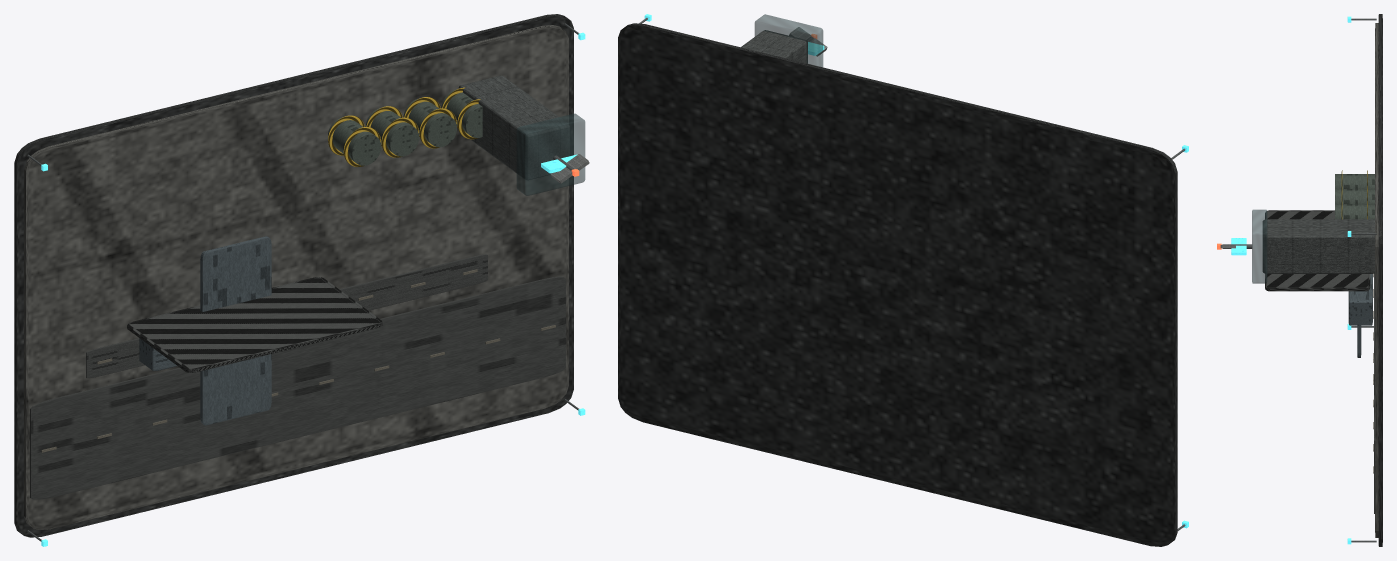
File: b-21-advanced-airfield-lod0.glb
3 views of the same model, side by side, from view 1: azimuth 30°, elevation 25°; view 2: azimuth 150°, elevation 25°; view 3: azimuth 270°, elevation 25° (orthographic). The views are drawn at different scales.
Visible parts, largest first — view 1: foundation_inner_pad, advanced_runway_road, foundation, strategic_hangar_door, heavy_aircraft_wing, tower_main, advanced_taxiway_road, tower_glass, advanced_fuel_0_vessel, advanced_fuel_1_vessel, advanced_fuel_2_vessel, advanced_fuel_3_vessel; view 2: foundation, tower_glass, tower_main; view 3: tower_main, foundation, strategic_hangar_door, foundation_inner_pad, tower_glass, heavy_aircraft_fuselage, advanced_fuel_2_vessel, advanced_fuel_0_vessel, advanced_fuel_1_vessel, advanced_radar_array_0.
Boxes of the visible parts, box(x1,y1,x2,y2) form: foundation_inner_pad: box(24, 25, 568, 529); advanced_runway_road: box(30, 276, 565, 499); foundation: box(14, 14, 573, 537); strategic_hangar_door: box(127, 277, 382, 372); heavy_aircraft_wing: box(200, 236, 271, 425); tower_main: box(458, 75, 569, 179); advanced_taxiway_road: box(86, 254, 487, 378); tower_glass: box(516, 113, 585, 195); advanced_fuel_0_vessel: box(328, 117, 381, 165); advanced_fuel_1_vessel: box(365, 107, 419, 156); advanced_fuel_2_vessel: box(403, 98, 456, 147); advanced_fuel_3_vessel: box(441, 89, 482, 137); foundation: box(618, 23, 1177, 546); tower_glass: box(754, 14, 823, 67); tower_main: box(741, 30, 807, 63); tower_main: box(1263, 219, 1374, 273); foundation: box(1378, 14, 1382, 546); strategic_hangar_door: box(1265, 210, 1370, 291); foundation_inner_pad: box(1375, 23, 1378, 537); tower_glass: box(1252, 209, 1267, 283); heavy_aircraft_fuselage: box(1348, 274, 1372, 325); advanced_fuel_2_vessel: box(1335, 204, 1374, 219); advanced_fuel_0_vessel: box(1335, 174, 1374, 188); advanced_fuel_1_vessel: box(1335, 189, 1374, 203); advanced_radar_array_0: box(1231, 238, 1246, 255).
Size of what is drawn, in the model's own units: 25 by 17 by 7.87.
14 materials, 14 textured.
